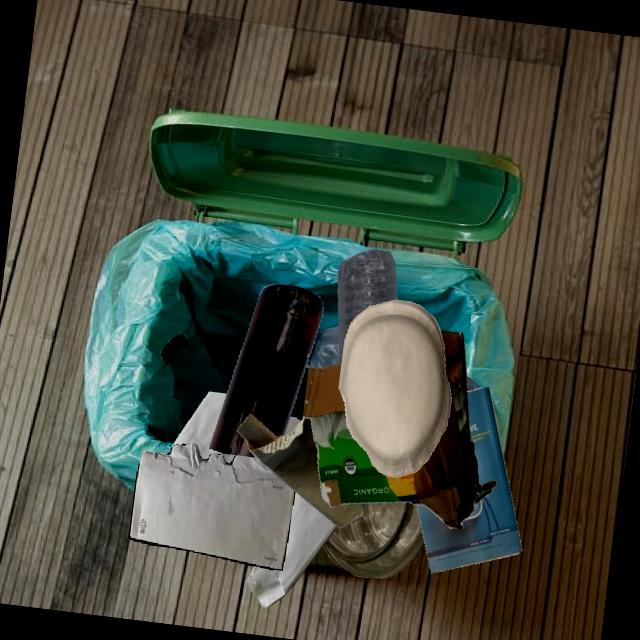cardboard: (302, 330, 496, 528), (236, 413, 364, 528)
glass: (209, 283, 323, 457), (323, 502, 424, 578)
paper: (128, 443, 294, 570), (338, 299, 451, 477), (416, 387, 521, 573), (245, 491, 337, 608), (171, 391, 236, 464)
plastic: (337, 248, 397, 364), (306, 325, 339, 368), (160, 332, 189, 365), (284, 416, 300, 434), (292, 417, 296, 419)
